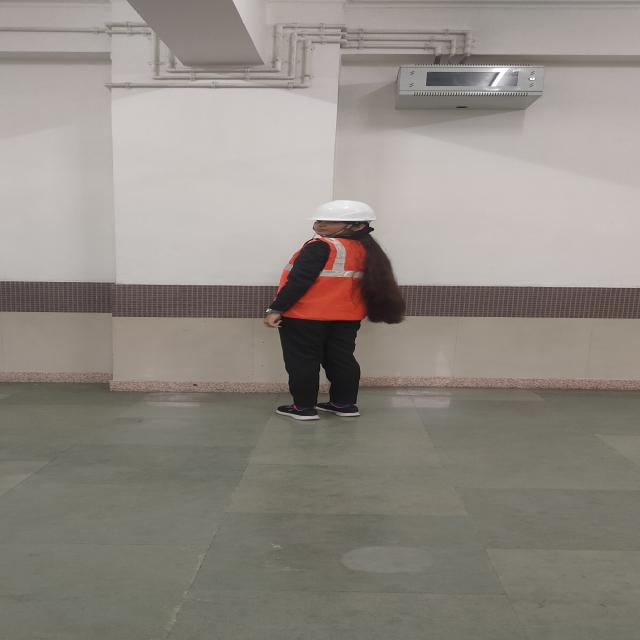safe: (265, 200, 404, 419)
